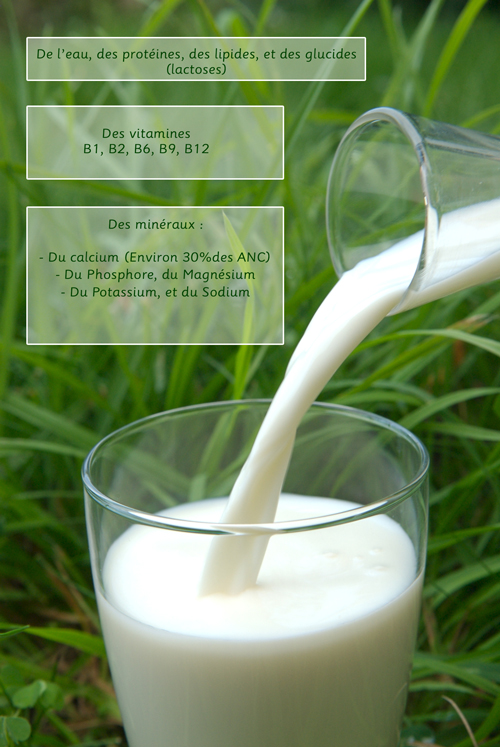glass of milk: (84, 400, 426, 747), (327, 101, 500, 317)
